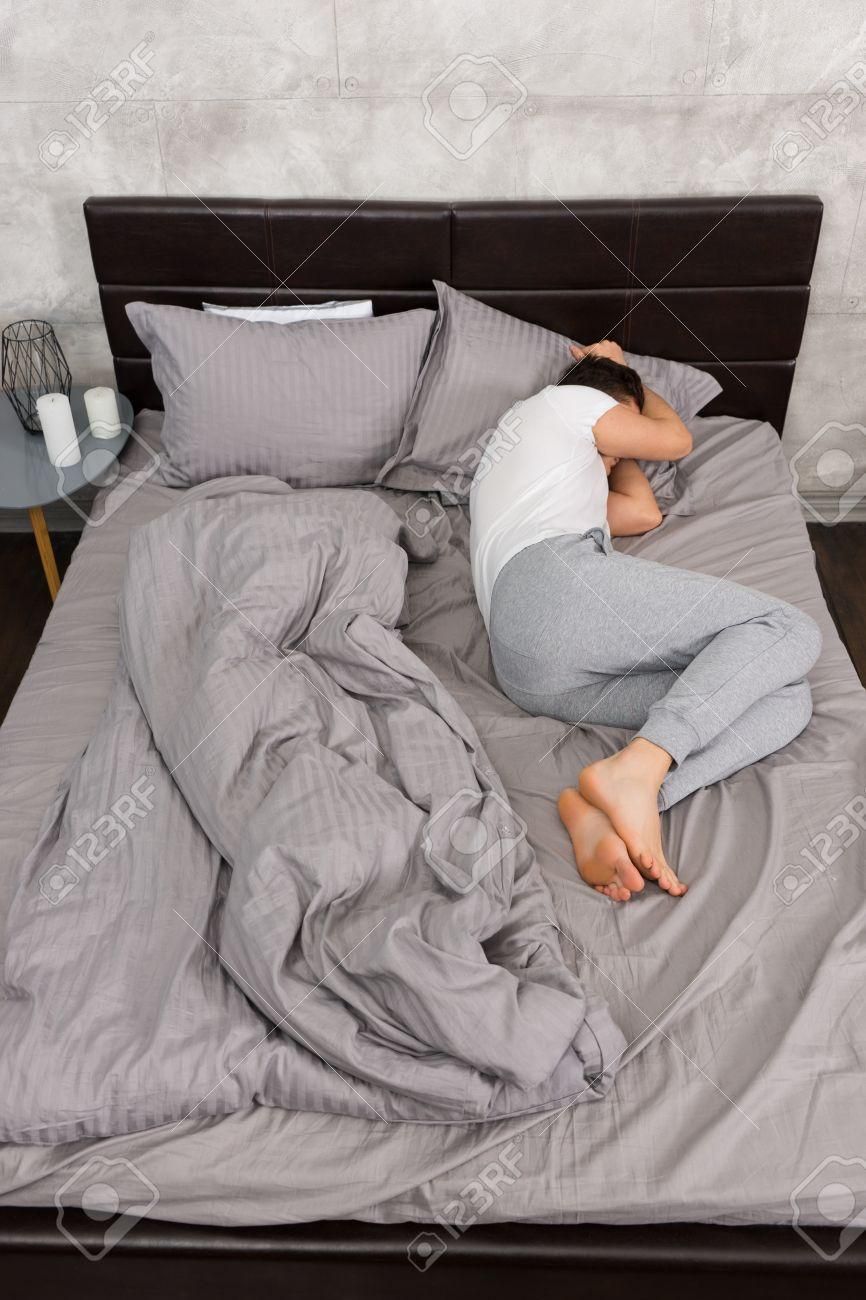bed: (0, 123, 866, 1300)
